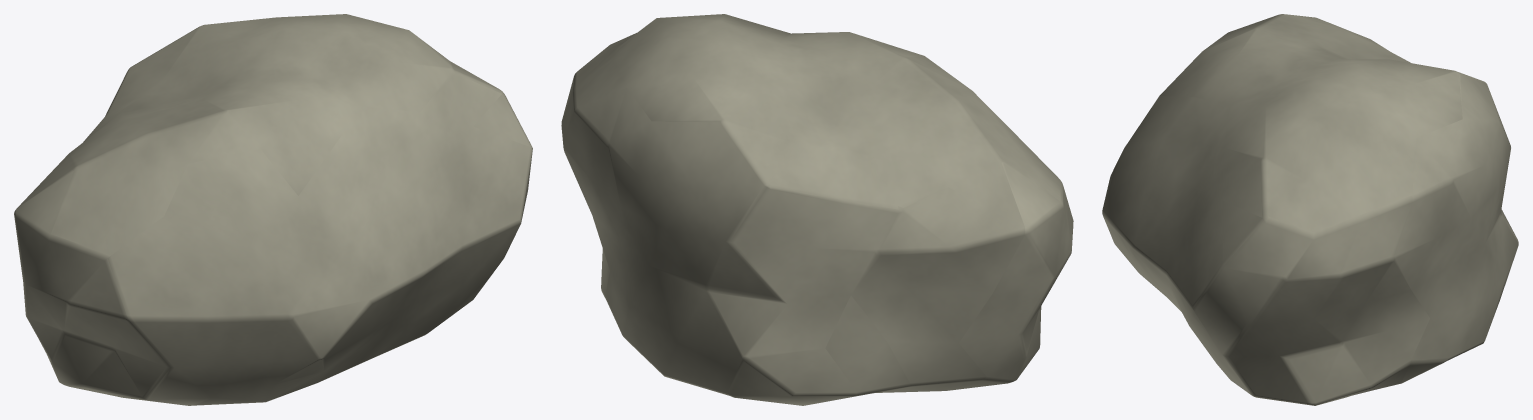
Rendered from boulder-large-250.glb.
The picture shows the model from 3 angles, left to right: view 1: azimuth 30°, elevation 25°; view 2: azimuth 150°, elevation 25°; view 3: azimuth 270°, elevation 25°; orthographic projection. The views are drawn at different scales.
Visible parts, largest first — view 1: boulder-large-250 / N01 / warm weathered granite; view 2: boulder-large-250 / N01 / warm weathered granite; view 3: boulder-large-250 / N01 / warm weathered granite.
Part boxes in pixels (bbox=[...]): boulder-large-250 / N01 / warm weathered granite: bbox=[14, 14, 532, 405]; boulder-large-250 / N01 / warm weathered granite: bbox=[561, 14, 1073, 405]; boulder-large-250 / N01 / warm weathered granite: bbox=[1102, 14, 1518, 405].
Bounding box in the file's own units: 2.73 × 1.55 × 2.06.
2 materials, 1 textured.
